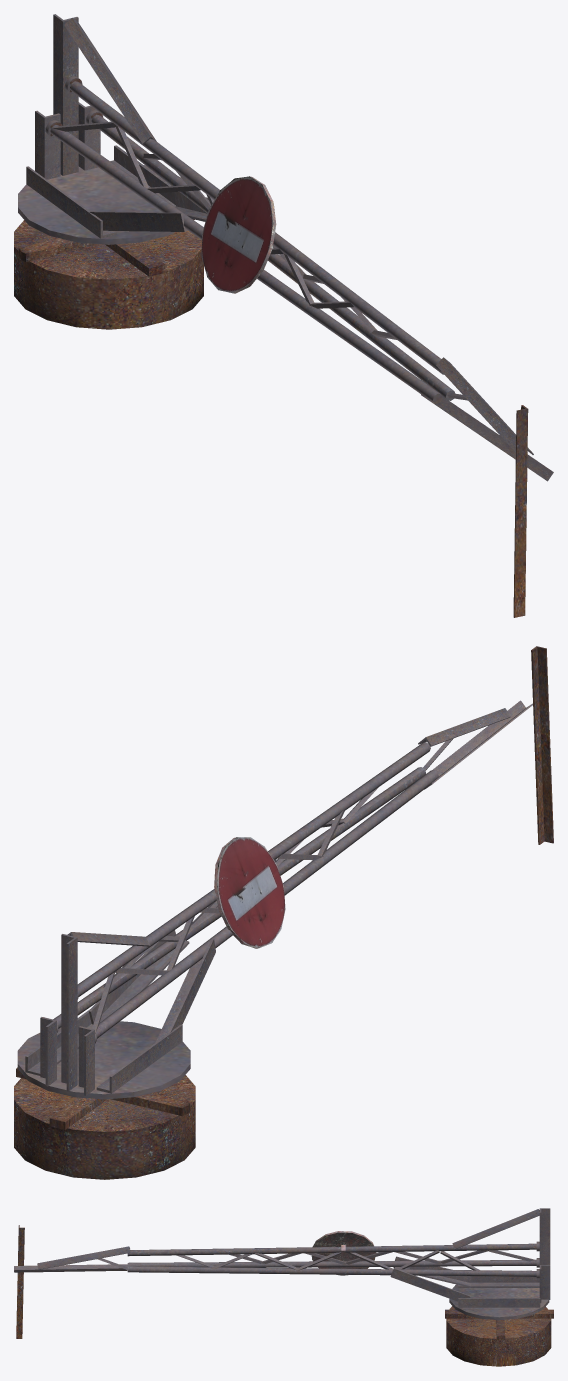
File: shlak_b.fbx
The picture shows the model from 3 angles, top to bottom: view 1: azimuth 30°, elevation 25°; view 2: azimuth 150°, elevation 25°; view 3: azimuth 270°, elevation 25°; orthographic projection. The views are drawn at different scales.
Visible parts, largest first — view 1: Cylinder006; view 2: Cylinder006; view 3: Cylinder006.
Part boxes in pixels (x1,y1,x2,y2): Cylinder006: (14, 14, 553, 617); Cylinder006: (14, 646, 553, 1179); Cylinder006: (14, 1208, 553, 1366).
Size of the model in its own units: 54.55 by 72.98 by 263.
1 material, 1 textured.
